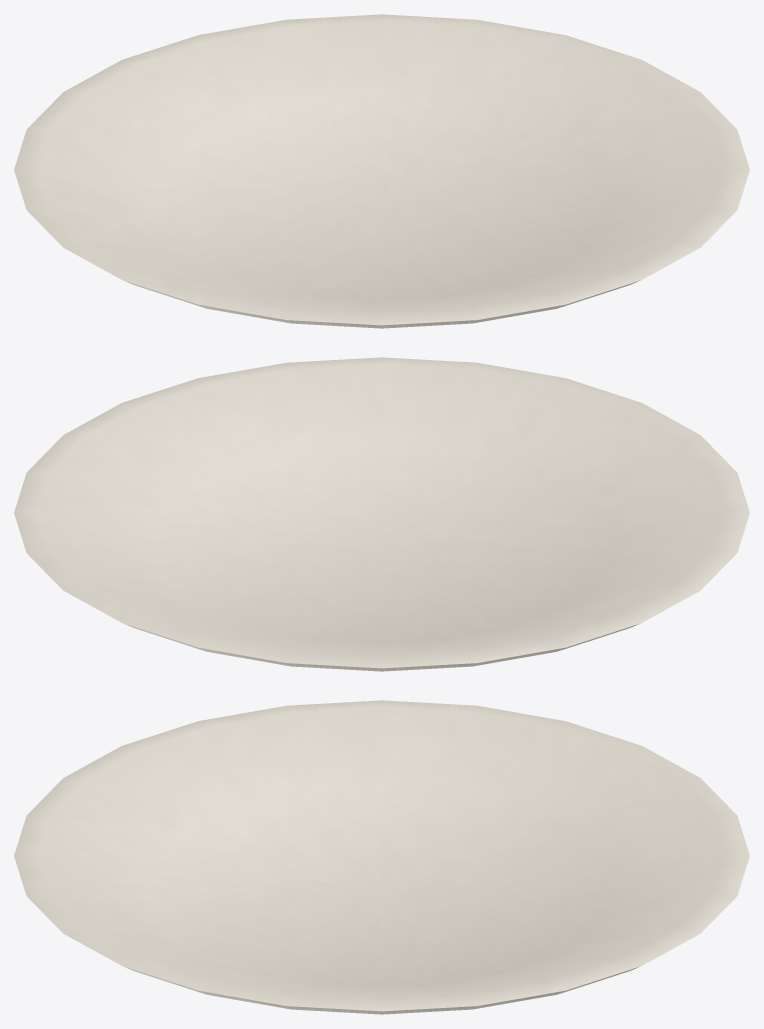
The model's file is SM_Plate.fbx.
The picture shows the model from 3 angles, top to bottom: view 1: azimuth 30°, elevation 25°; view 2: azimuth 150°, elevation 25°; view 3: azimuth 270°, elevation 25°; orthographic projection.
Visible parts, largest first — view 1: SM_Plate; view 2: SM_Plate; view 3: SM_Plate.
Boxes of the visible parts, <box> form: SM_Plate: <box>14,14,749,328</box>; SM_Plate: <box>14,357,749,671</box>; SM_Plate: <box>14,700,749,1014</box>.
Size of the model in its own units: 0.252 by 0.023 by 0.252.
Materials: 1 (1 with a texture image).
